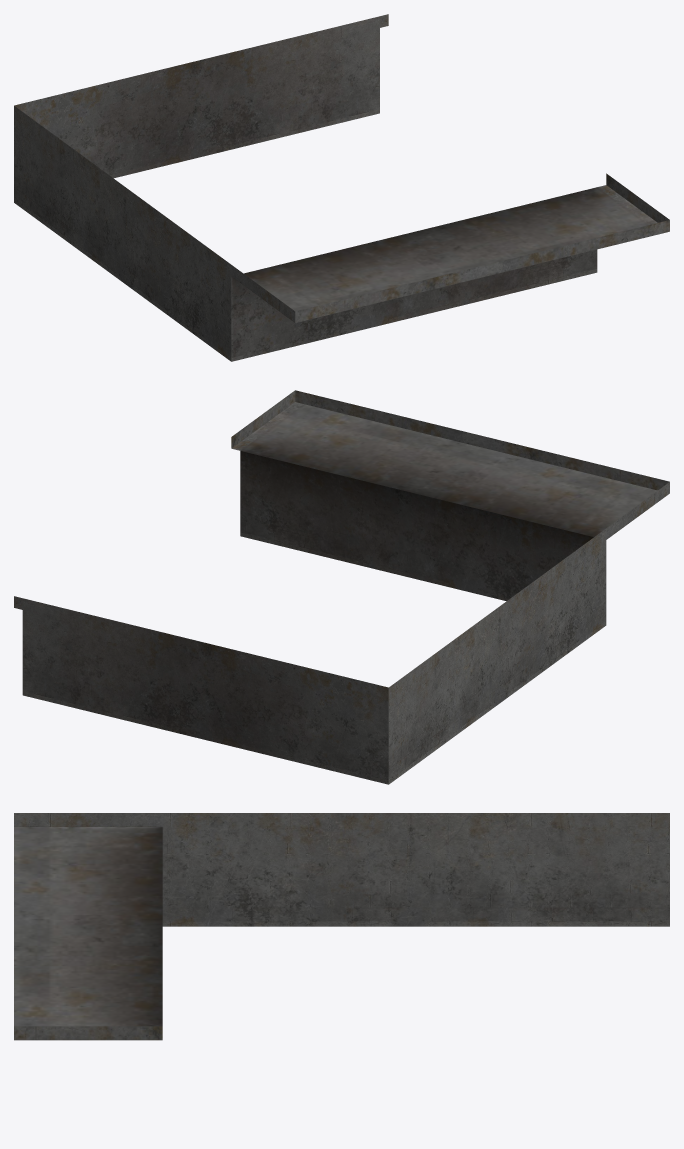
File: BuildingBase.FBX
3 renders of one model, top to bottom at view 1: azimuth 30°, elevation 25°; view 2: azimuth 150°, elevation 25°; view 3: azimuth 270°, elevation 25°, orthographic. The views are drawn at different scales.
Visible parts, largest first — view 1: BuildingBase; view 2: BuildingBase; view 3: BuildingBase.
Part boxes in pixels (<box>): BuildingBase: <box>14,14,669,361</box>; BuildingBase: <box>14,390,669,784</box>; BuildingBase: <box>14,813,669,1040</box>.
Bounding box in the file's own units: 2142 × 531 × 2784.
